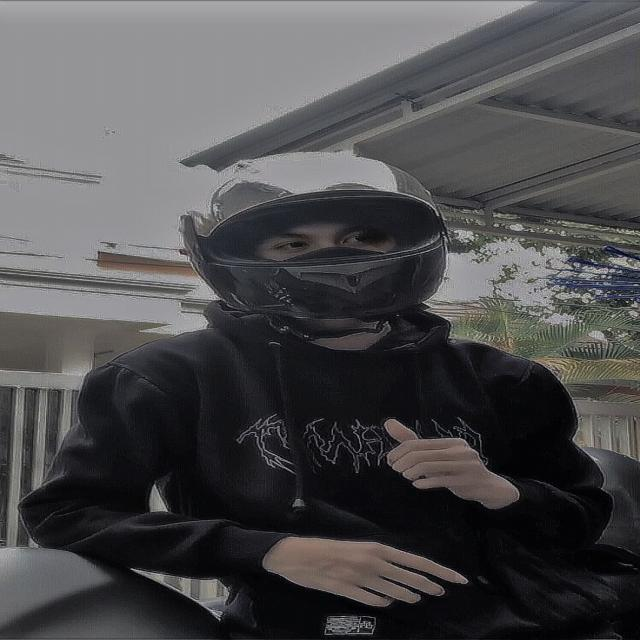Helmet: (173, 136, 457, 367)
